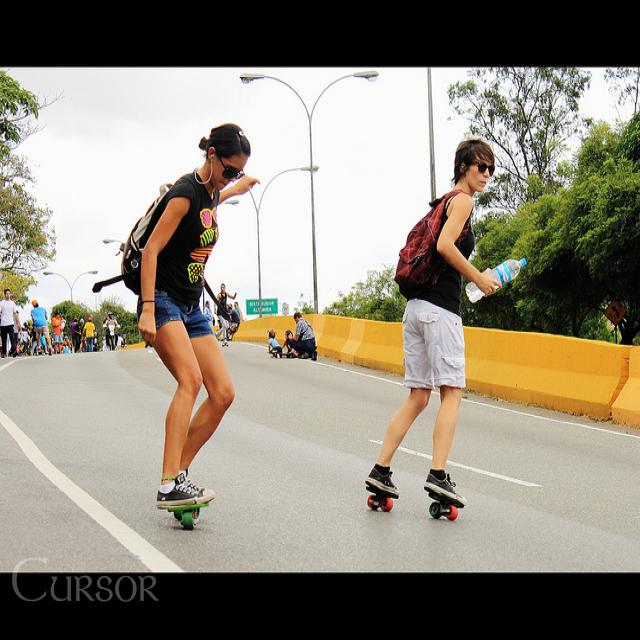motor: (103, 323, 121, 351)
